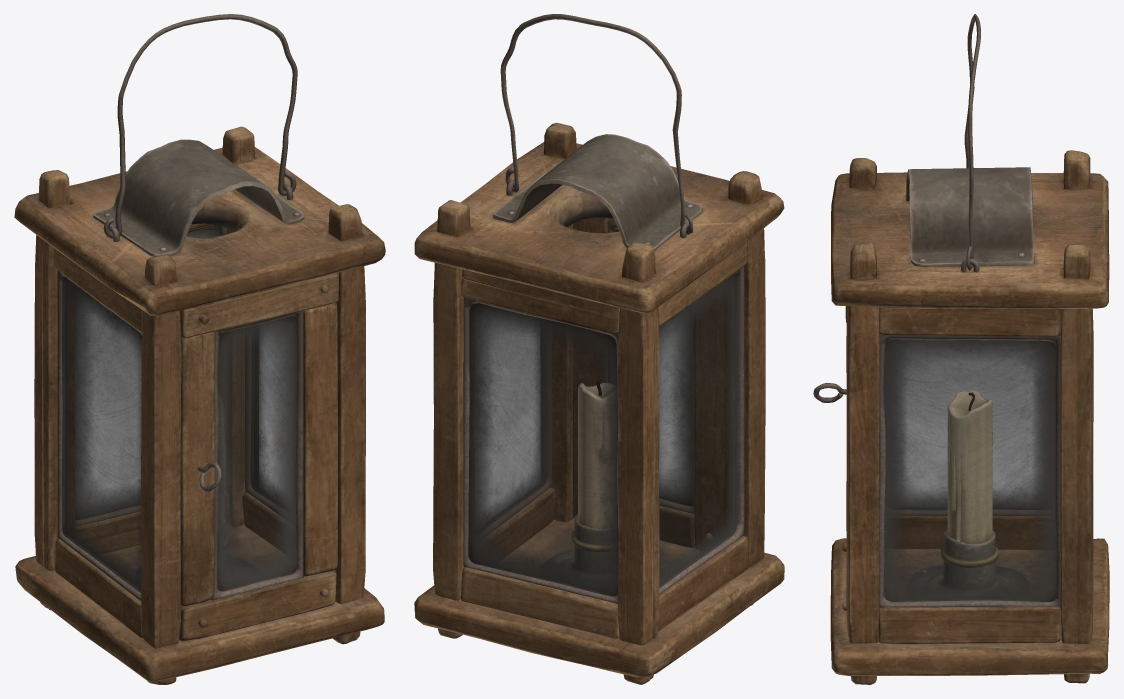
Rendered from polyhaven-wooden-lantern-01.glb.
3 views of the same model, side by side, from view 1: azimuth 30°, elevation 25°; view 2: azimuth 150°, elevation 25°; view 3: azimuth 270°, elevation 25° (orthographic).
Parts seen in each view (by area): view 1: wooden_lantern_01_0, wooden_lantern_01_door_0, wooden_lantern_01_1, wooden_lantern_01_door_1, wooden_lantern_01_handle_0; view 2: wooden_lantern_01_0, wooden_lantern_01_1, wooden_lantern_01_door_0, wooden_lantern_01_door_1, wooden_lantern_01_handle_0; view 3: wooden_lantern_01_0, wooden_lantern_01_1, wooden_lantern_01_handle_0, wooden_lantern_01_door_0.
Boxes of the visible parts, left/top/right/bottom form: wooden_lantern_01_0: left=14, top=126, right=385, bottom=684; wooden_lantern_01_door_0: left=179, top=272, right=339, bottom=641; wooden_lantern_01_1: left=62, top=227, right=285, bottom=592; wooden_lantern_01_door_1: left=217, top=315, right=297, bottom=591; wooden_lantern_01_handle_0: left=103, top=14, right=297, bottom=238; wooden_lantern_01_0: left=414, top=122, right=784, bottom=684; wooden_lantern_01_1: left=468, top=273, right=737, bottom=596; wooden_lantern_01_door_0: left=573, top=217, right=724, bottom=549; wooden_lantern_01_door_1: left=615, top=229, right=694, bottom=505; wooden_lantern_01_handle_0: left=500, top=14, right=692, bottom=234; wooden_lantern_01_0: left=830, top=150, right=1109, bottom=684; wooden_lantern_01_1: left=883, top=333, right=1060, bottom=609; wooden_lantern_01_handle_0: left=964, top=14, right=980, bottom=270; wooden_lantern_01_door_0: left=813, top=306, right=847, bottom=610.
Size of the model in its own units: 0.2211 by 0.5301 by 0.2347.
2 materials, 2 textured.
